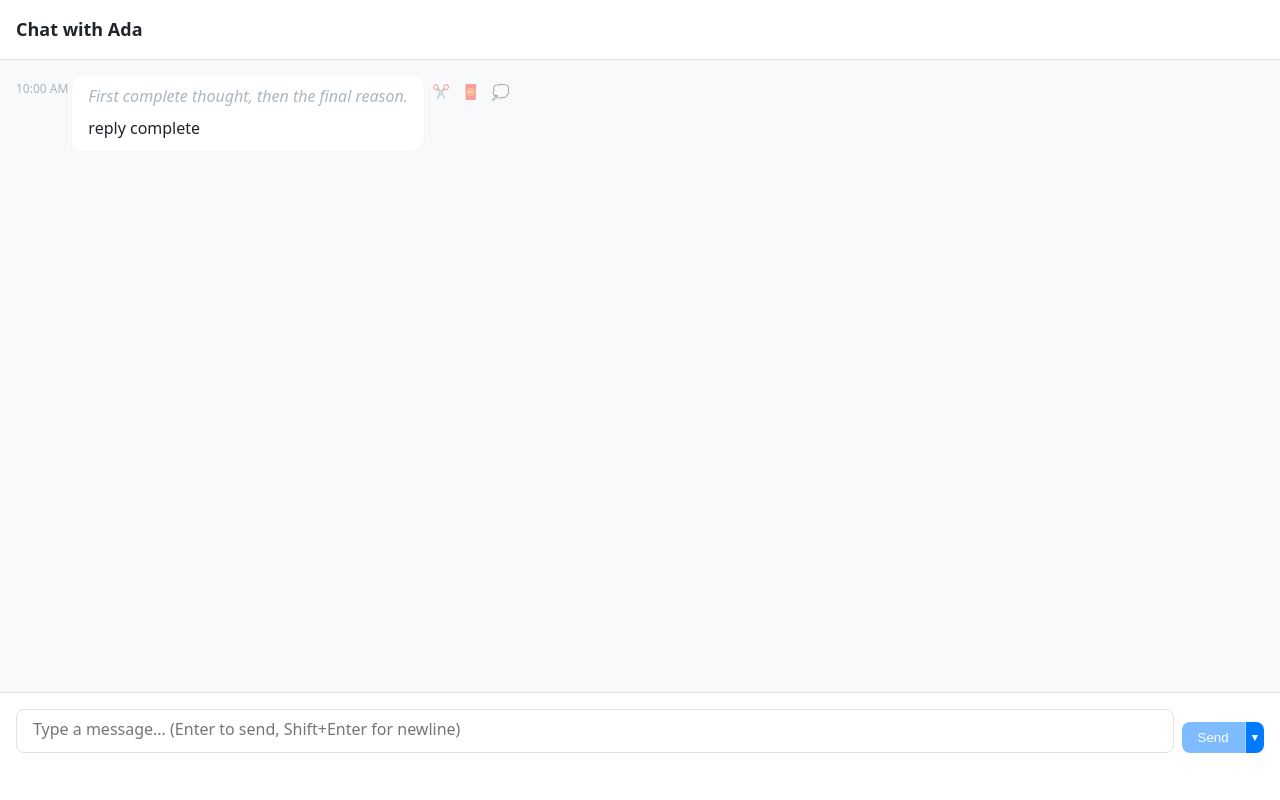
Test case: 1:1 message display contract › reveals complete persisted thinking and tool details immediately, with no later additions
The image size is (1280, 800).
Expected: the text with class "ei-message__thinking" reads "First complete thought, then the final reason.", [88, 85, 408, 107]
Click the button named "Show tool calls (includes write)" at [471, 92], box [458, 80, 484, 105]
Wait 3000 ms
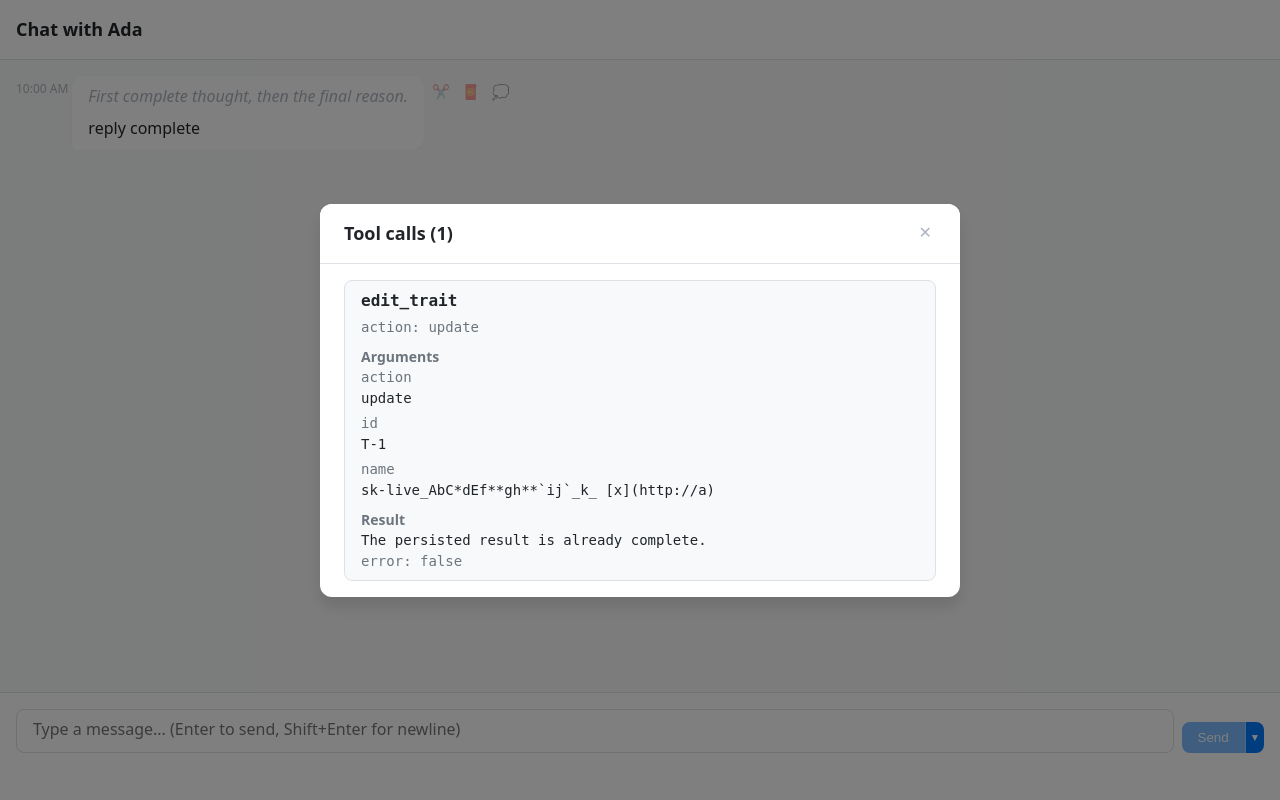
Expected: the heading "edit_trait" is shown, [361, 290, 457, 310]
Expected: the text "sk-live_AbC*dEf**gh**`ij`_k_ [x](http://a)" is shown, [361, 482, 715, 498]
Expected: the text "The persisted result is already complete." is shown, [361, 532, 707, 548]
